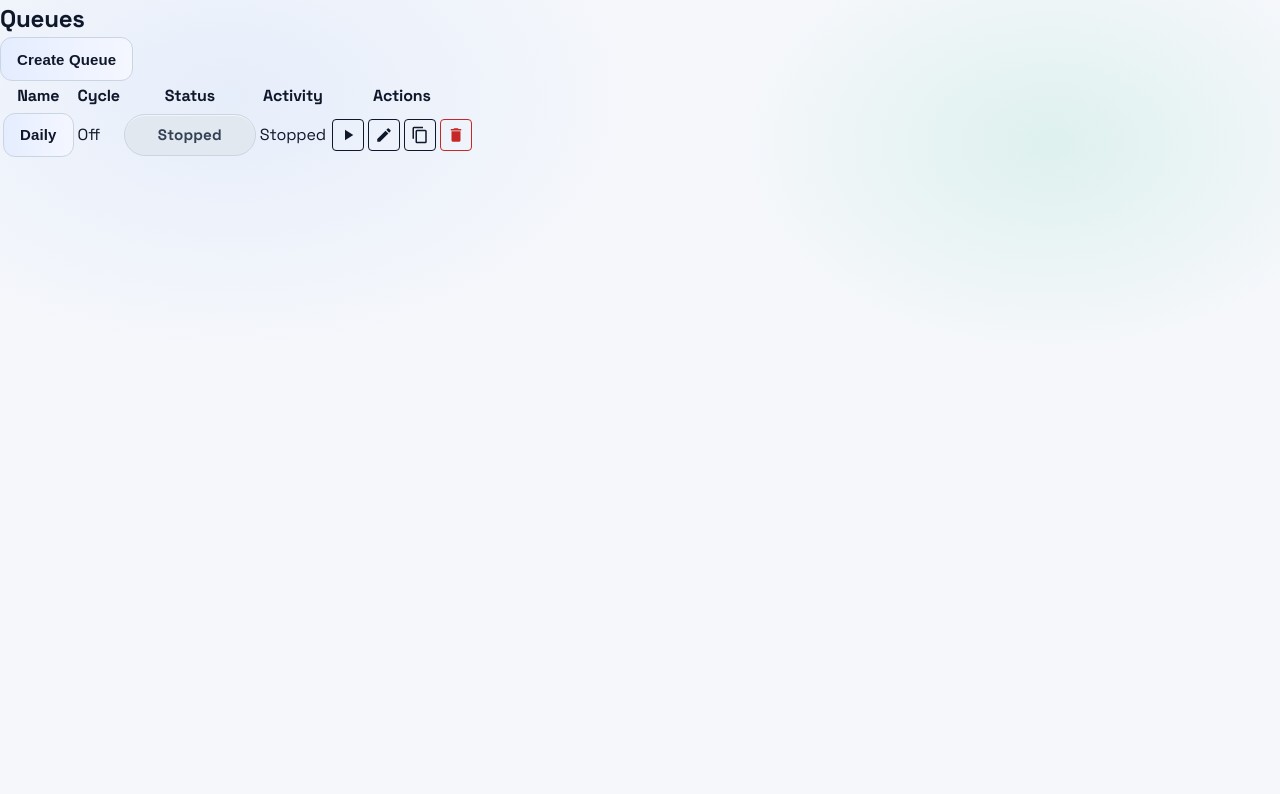
Test: QueuesPage edit layout › Cancel closes the edit page
Click the button "Daily".
click(38, 135)  # box x1=3 y1=113 x2=74 y2=157
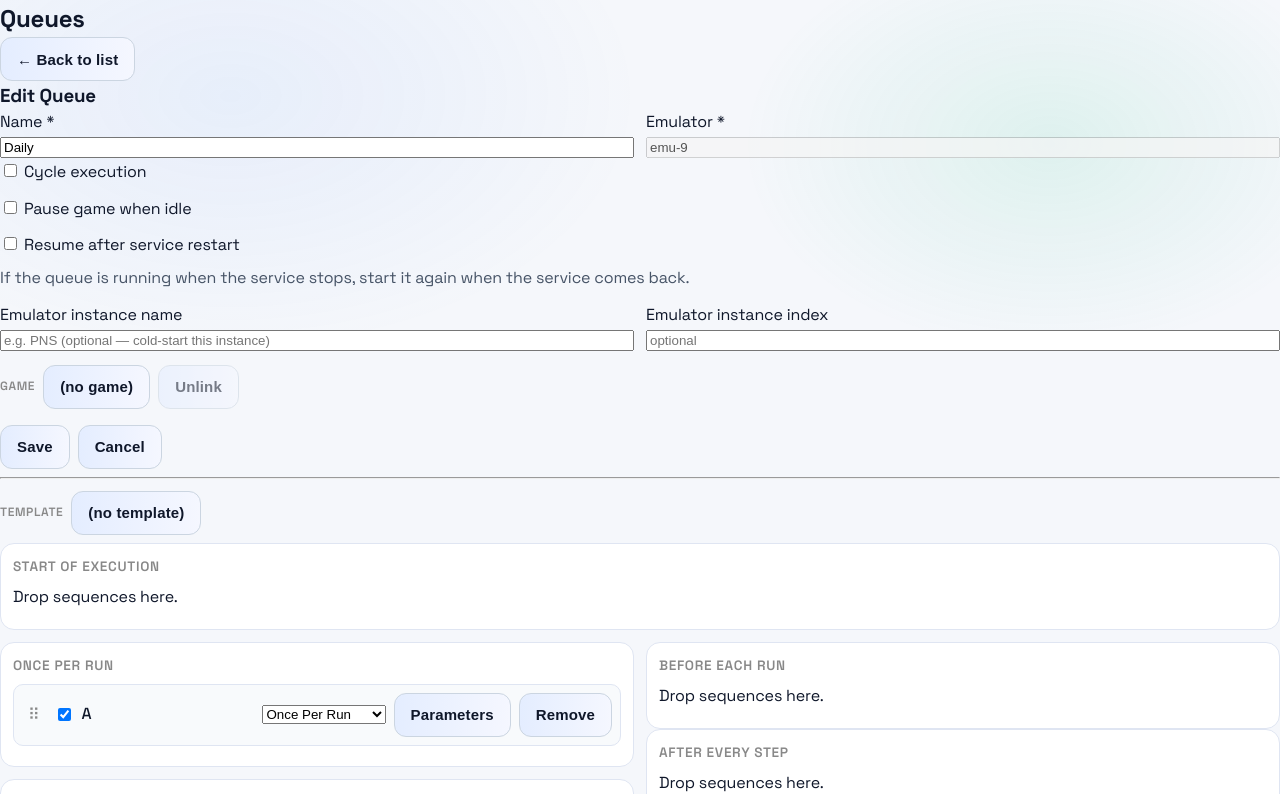
Expected: the heading "Edit Queue" is shown, x1=0 y1=84 x2=96 y2=107
Click the button "Cancel".
click(120, 447)  # box x1=78 y1=425 x2=162 y2=469
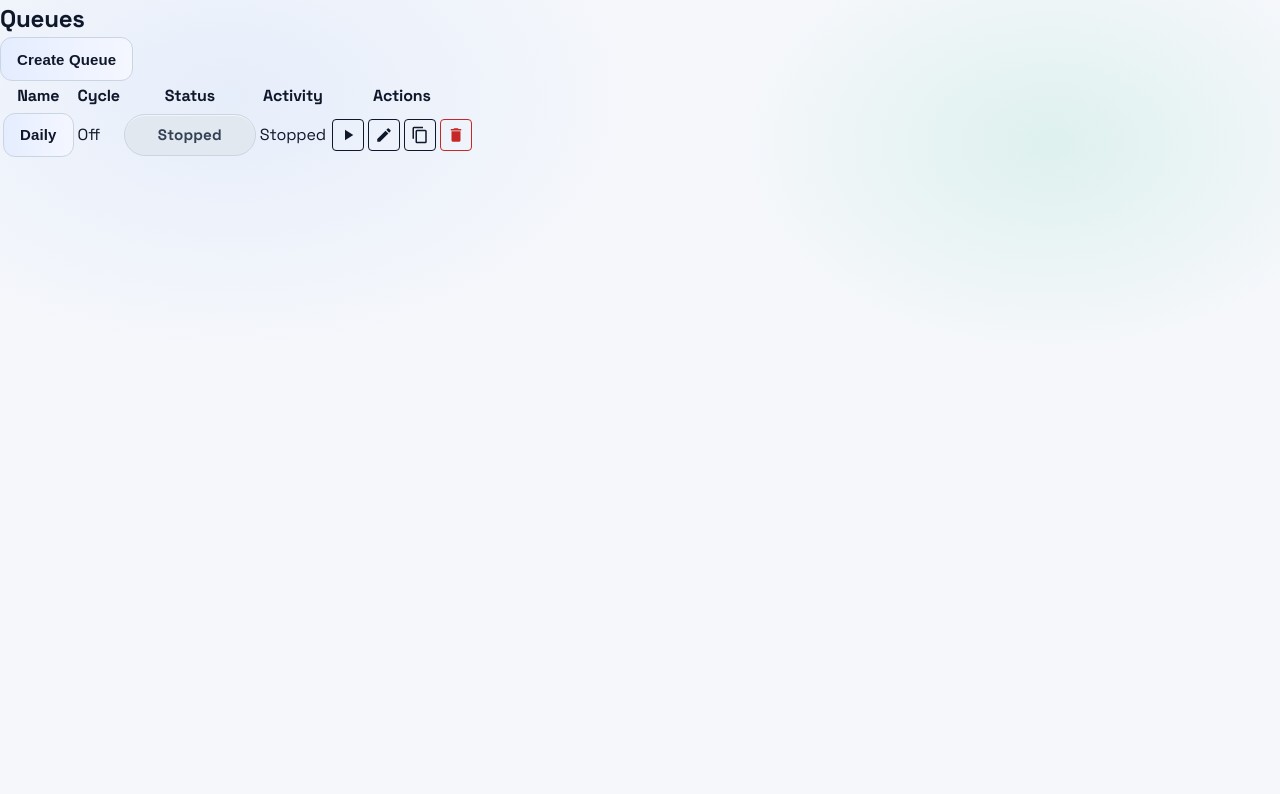
Expected: the heading "Edit Queue" is gone
